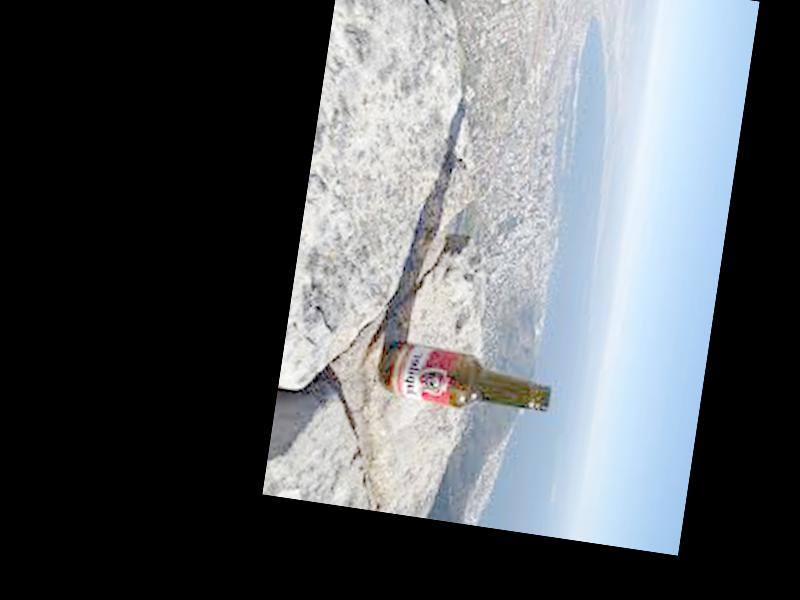Beer: (381, 340, 556, 422)
